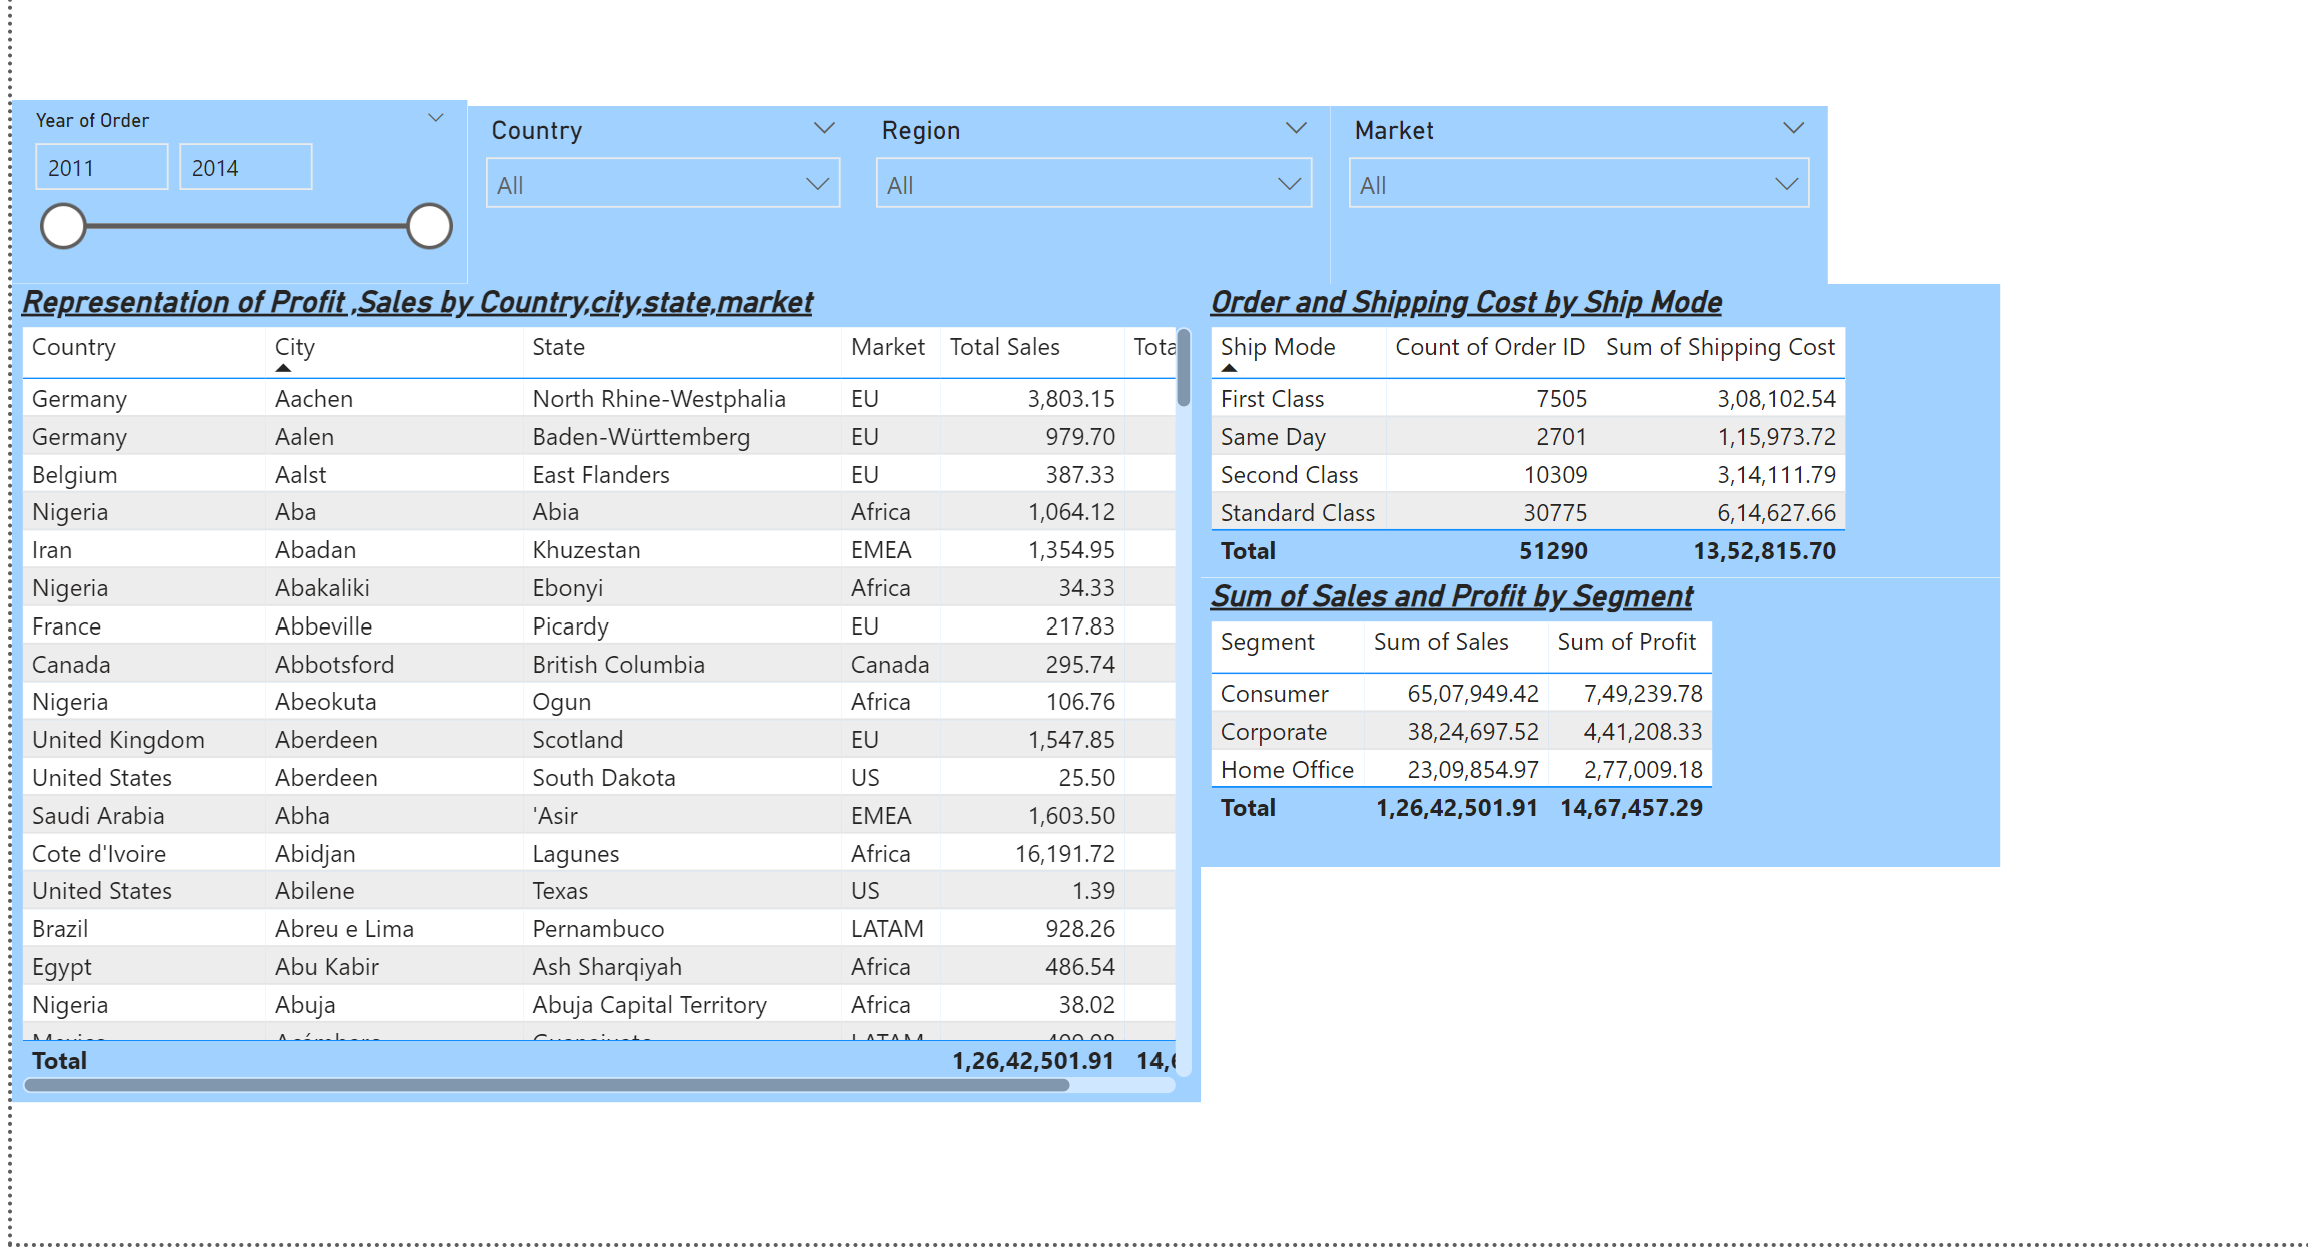

The dashboard page shown, as its layout file describes it:
{"tool":"powerbi","page":{"name":"Table Visualization","canvas":[1280,720],"ordinal":2},"visuals":[{"type":"slicer","fields":{"Values":["Orders.Year of Order"]},"box":[0,86,253,102],"z":0},{"type":"slicer","fields":{"Values":["Orders.Region"]},"box":[470,89,262,99],"z":1000},{"type":"slicer","fields":{"Values":["Orders.Market"]},"box":[732,89,276,99],"z":2000},{"type":"slicer","fields":{"Values":["Orders.Country"]},"box":[253,89,217,102],"z":3000},{"type":"tableEx","title":"Representation of Profit ,Sales by Country,city,state,market","fields":{"Values":["Orders.Country","Orders.City","Orders.State","Orders.Market","Orders.Total Sales","Orders.Total Profit"]},"box":[0,188,660,454],"z":4000},{"type":"tableEx","title":"Order and Shipping Cost by Ship Mode","fields":{"Values":["Orders.Ship Mode","Orders.Order ID","Sum(Orders.Shipping Cost)"]},"box":[660,188,444,163],"z":5000},{"type":"tableEx","title":"Sum of Sales and Profit by Segment","fields":{"Values":["Orders.Segment","Sum(Orders.Sales)","Sum(Orders.Profit)"]},"box":[660,351,444,160],"z":6000}]}

Visuals, with their boxes on the page's 1280x720 design canvas (x1, y1, x2, y2). These are canvas units, not pixel positions in the 2308x1252 screenshot, which may show the page scaled, cropped or inside an application window:
slicer - Orders.Year of Order: [0,86,253,188]
slicer - Orders.Region: [470,89,732,188]
slicer - Orders.Market: [732,89,1008,188]
slicer - Orders.Country: [253,89,470,191]
"Representation of Profit ,Sales by Country,city,state,market" tableEx: [0,188,660,642]
"Order and Shipping Cost by Ship Mode" tableEx: [660,188,1104,351]
"Sum of Sales and Profit by Segment" tableEx: [660,351,1104,511]
